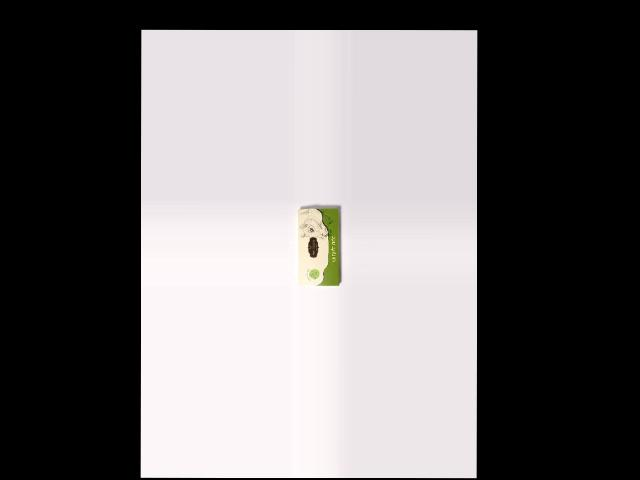chocolate: (296, 207, 340, 286)
